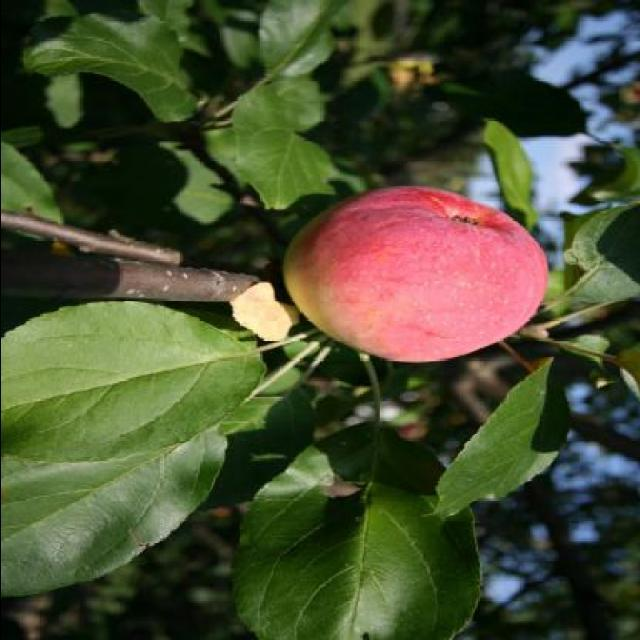Peach: (281, 184, 548, 362)
